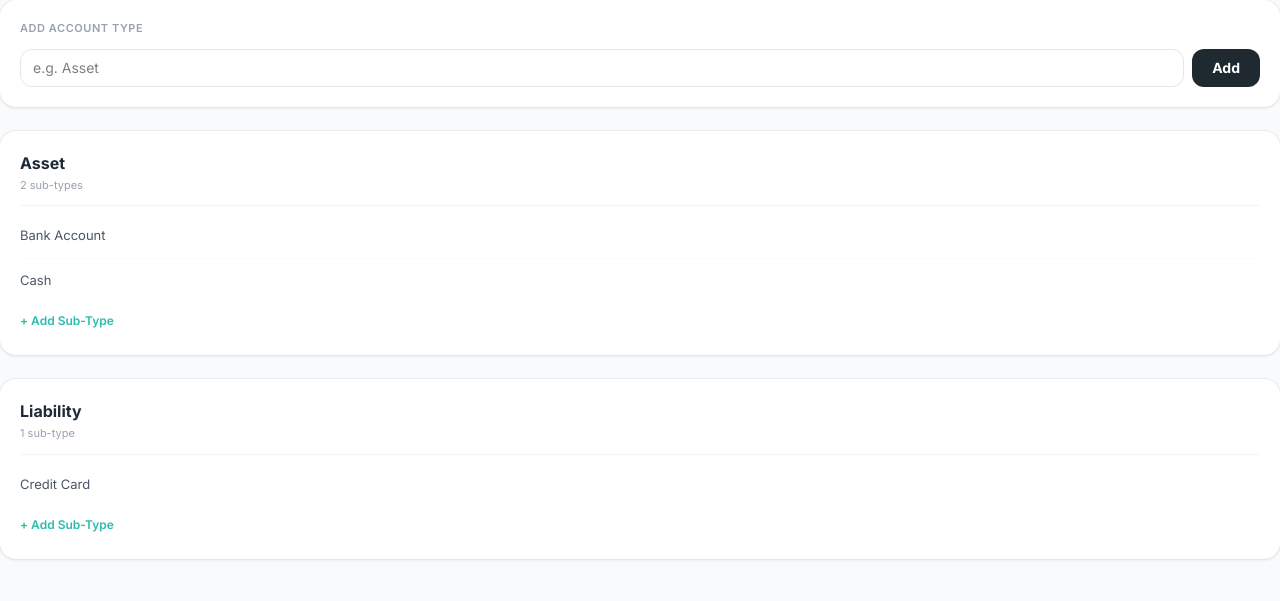
Test: AccountTypeManager › validates name is required when adding account type
expect the text "Add Account Type" is shown: met, box [20,21,143,35]
What coordinates should you click on to do the following:
click the button "Add"
I would click on:
 (1226, 68)
Its box is [1192,48,1260,86].
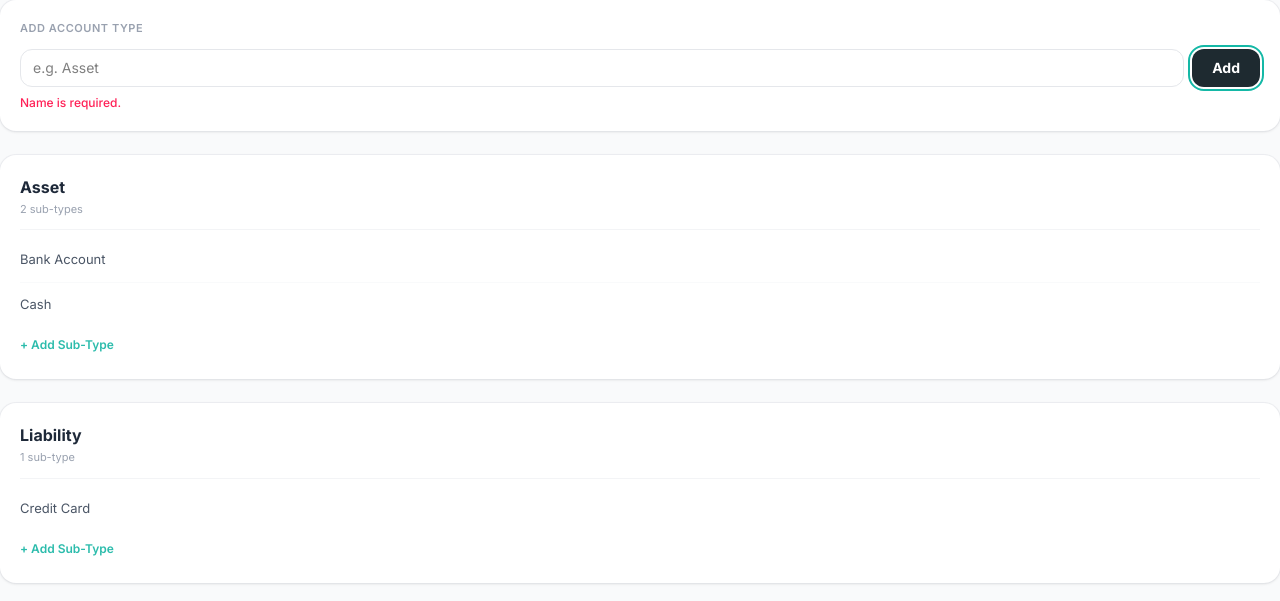
expect the text "Name is required." is shown: met, box [20,94,121,110]
